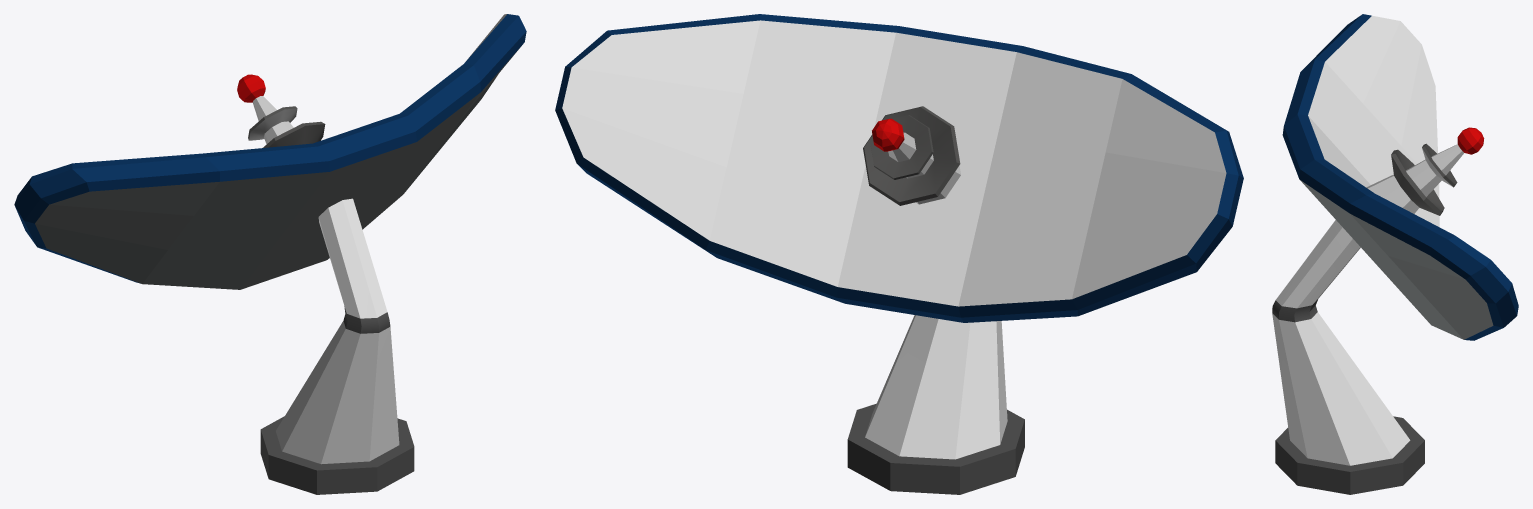
The model's file is Satellite_Dish_A.fbx.
The picture shows the model from 3 angles, left to right: view 1: azimuth 30°, elevation 25°; view 2: azimuth 150°, elevation 25°; view 3: azimuth 270°, elevation 25°; orthographic projection. The views are drawn at different scales.
Visible parts, largest first — view 1: SatelliteDish, Satellite_Dish_A, pCylinder62, pSphere1; view 2: SatelliteDish, Satellite_Dish_A, pCylinder62, pSphere1; view 3: SatelliteDish, Satellite_Dish_A, pCylinder62, pSphere1.
Part boxes in pixels (x1,y1,x2,y2): SatelliteDish: (14,14,526,289); Satellite_Dish_A: (260,198,414,494); pCylinder62: (248,96,325,147); pSphere1: (237,74,265,102); SatelliteDish: (555,14,1243,322); Satellite_Dish_A: (847,315,1024,494); pCylinder62: (863,106,960,205); pSphere1: (872,118,904,151); SatelliteDish: (1282,14,1518,340); Satellite_Dish_A: (1272,220,1424,494); pCylinder62: (1366,143,1463,215); pSphere1: (1457,127,1484,154).
Bounding box in the file's own units: 15.39 × 6.48 × 9.7.
